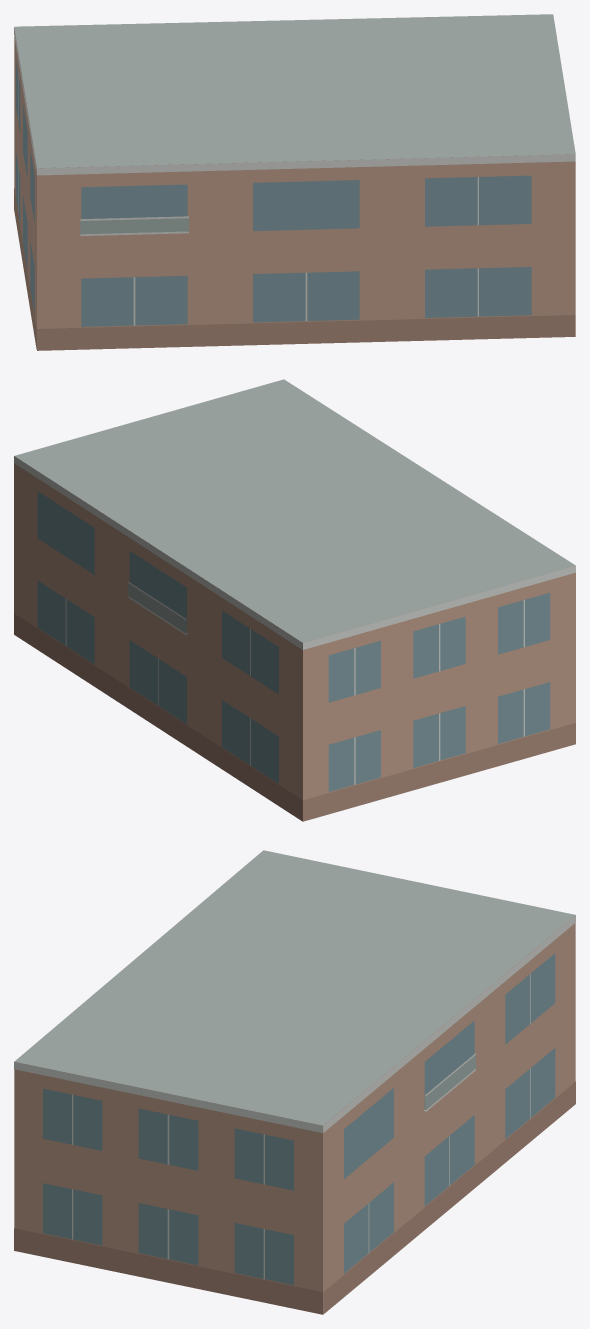
The model's file is survey-upis-32893085.glb.
The picture shows the model from 3 angles, top to bottom: view 1: azimuth 30°, elevation 25°; view 2: azimuth 150°, elevation 25°; view 3: azimuth 270°, elevation 25°; orthographic projection. The views are drawn at different scales.
Parts seen in each view (by area): view 1: survey-upis-32893085.tmp; view 2: survey-upis-32893085.tmp; view 3: survey-upis-32893085.tmp.
Part boxes in pixels (box(x1,y1,x2,y2)): survey-upis-32893085.tmp: box(14, 14, 575, 350); survey-upis-32893085.tmp: box(14, 379, 575, 821); survey-upis-32893085.tmp: box(14, 850, 575, 1314).
Bounding box in the file's own units: 19.07 × 6.1 × 16.43.
